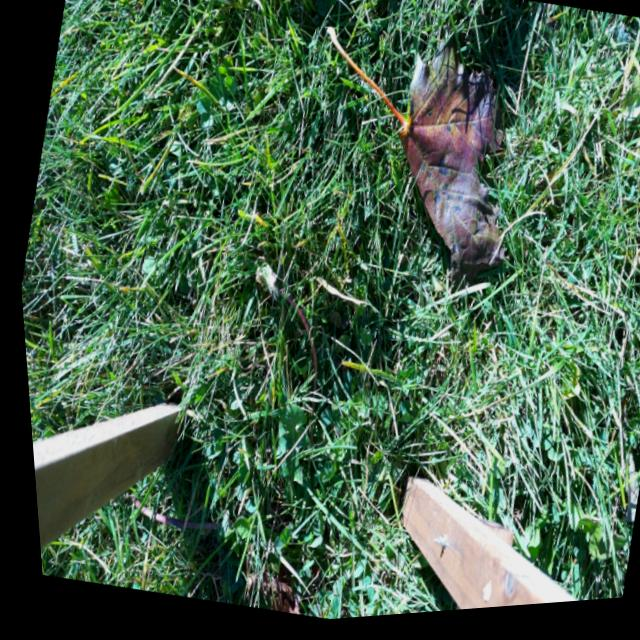base: (293, 385, 321, 423)
flower: (238, 261, 283, 307)
